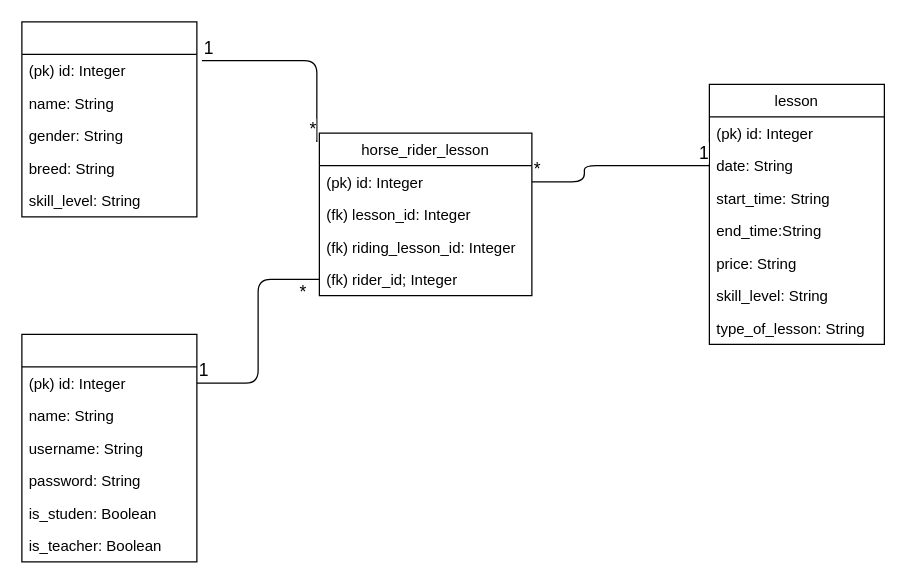
The diagram is 906 pixels wide and 588 high, and some of its shapes have lost their labels. The box of each missing label's shape, as (x1, y1, x2, y2) in pixels:
account: (21, 333, 197, 562)
horse: (21, 21, 197, 217)
